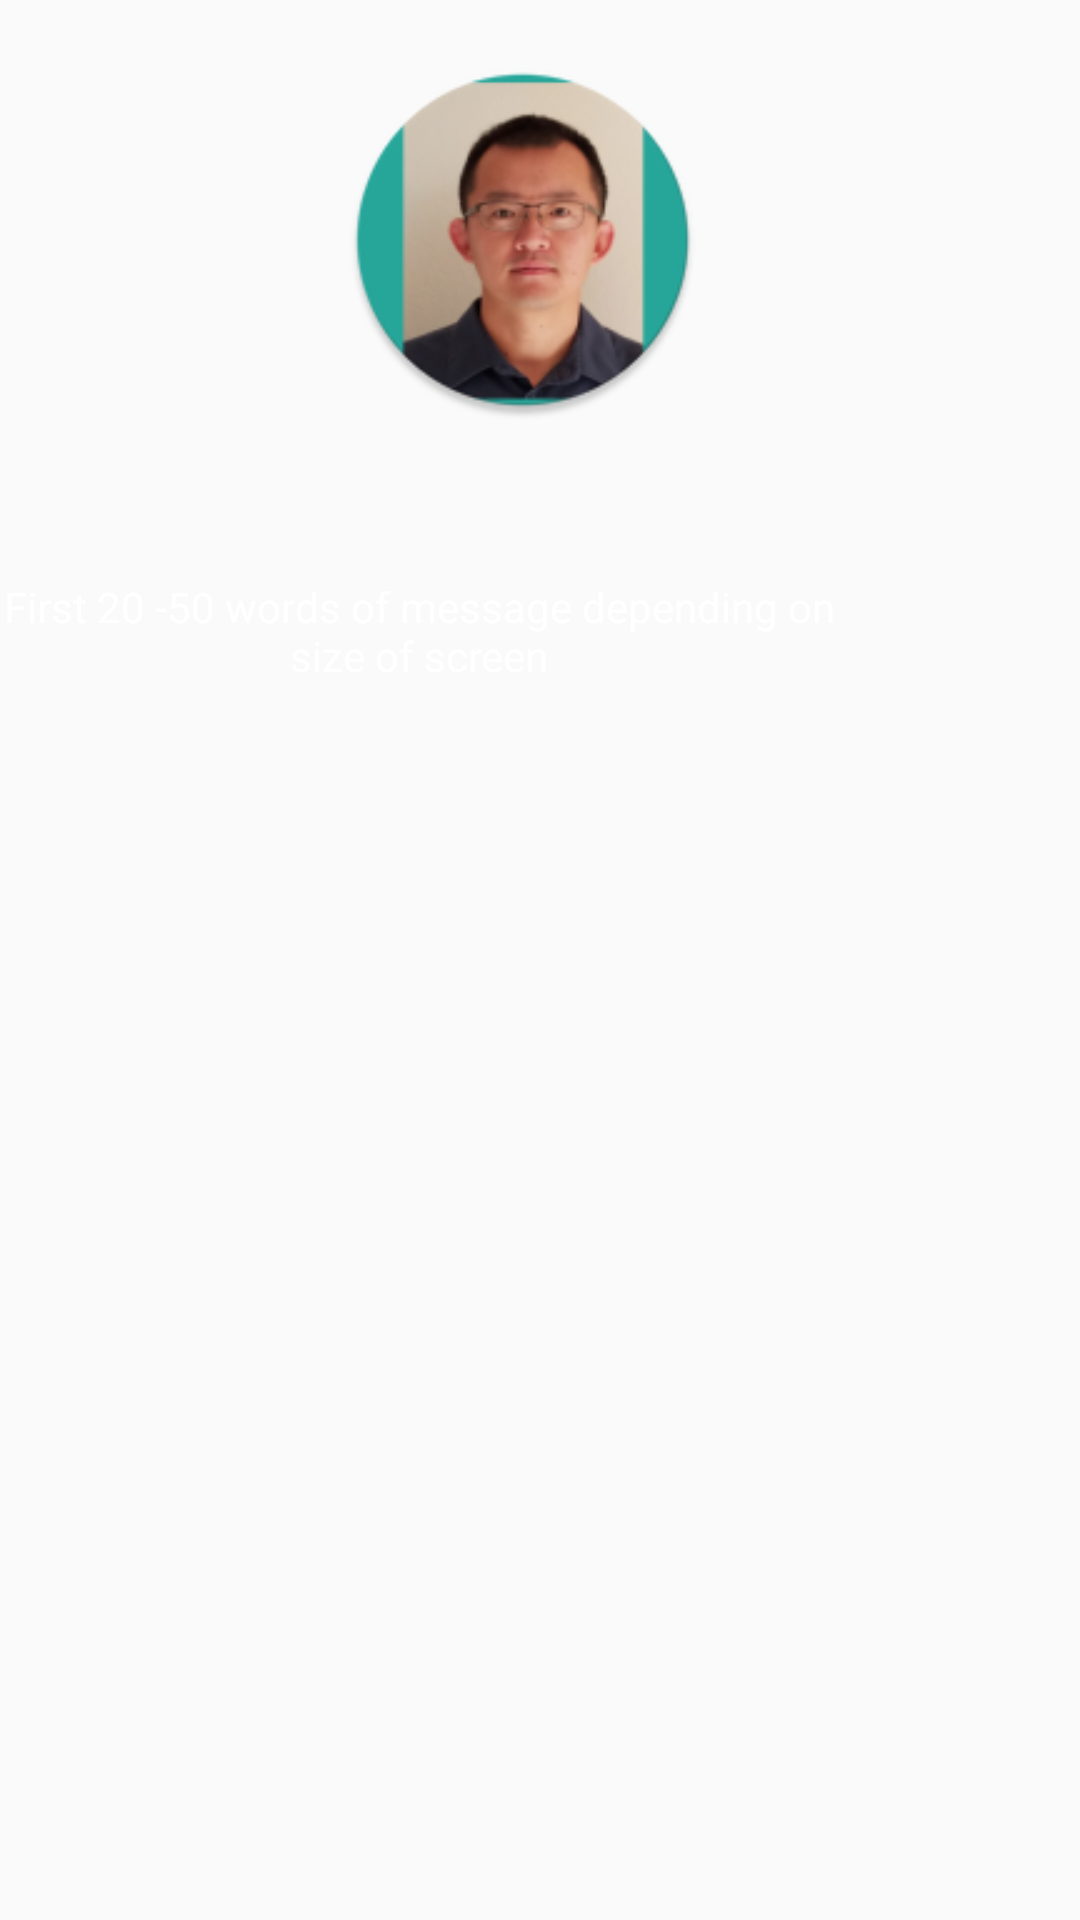

Named icons in this screenshot (1080*1920) and their bounding boxes, Rect(x1, y1, x2, y2):
profile pic round: Rect(355, 73, 690, 414)
